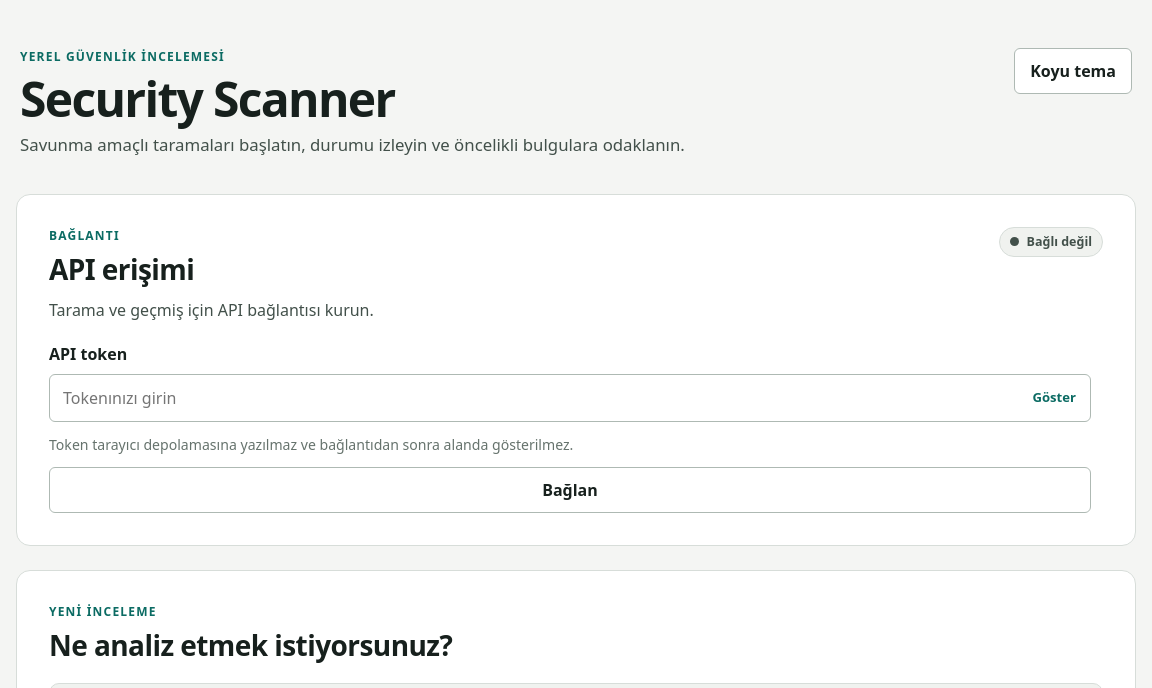
Scenario: ScannerPage › geçerli token ile bağlanır ve geçmişi gösterir
The image size is (1152, 688).
Type "geçerli-token" into the field labelled "API token Göster".
click(570, 398); type("geçerli-token")  # box [49,374,1091,422]
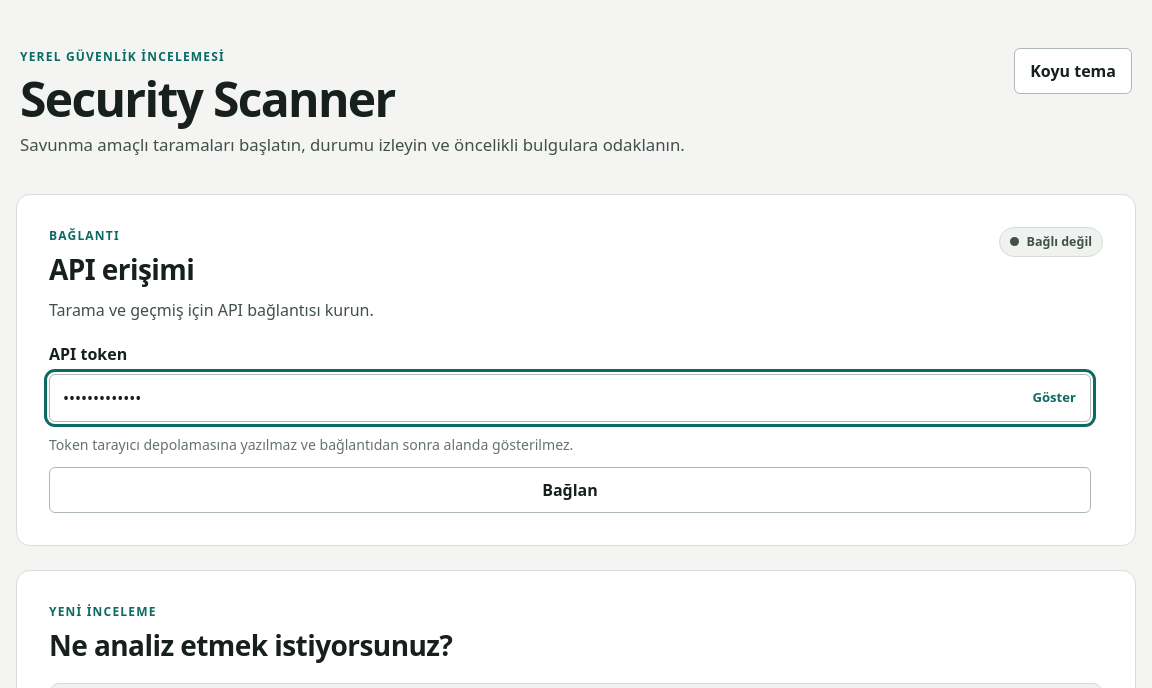
Click the button "Bağlan".
click(570, 490)  # box [49,467,1091,513]
(page scrolled)
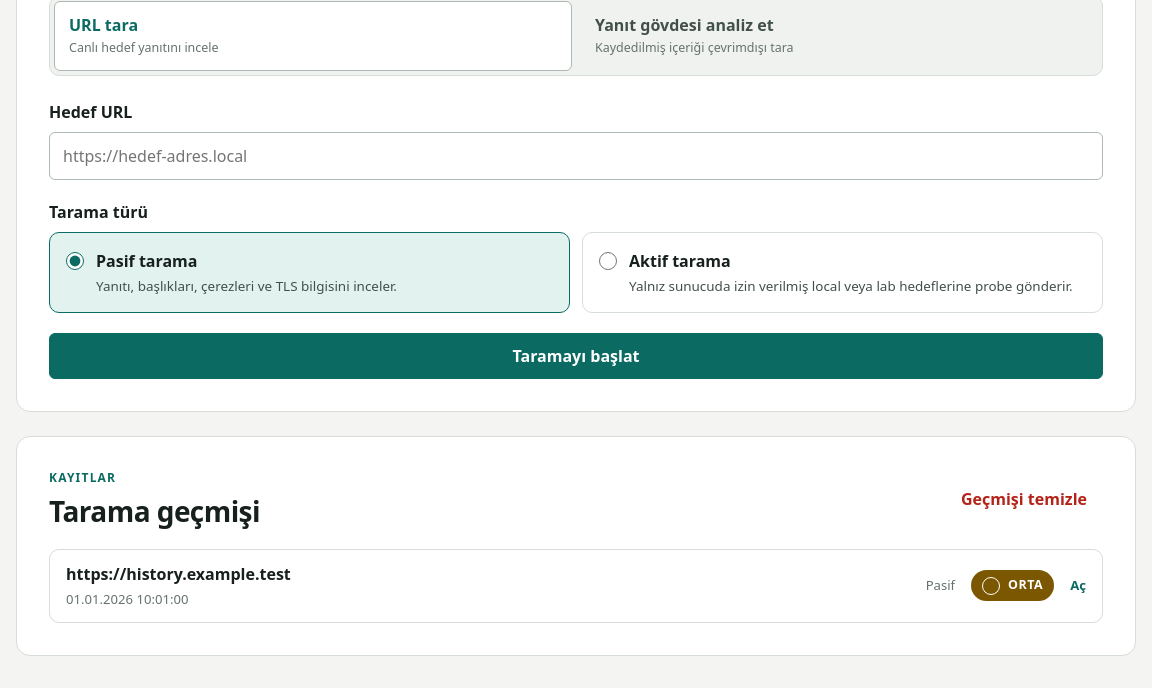
Expected: the button with aria-label "https://history.example.test raporunu aç" is shown, [49,549,1103,622]
